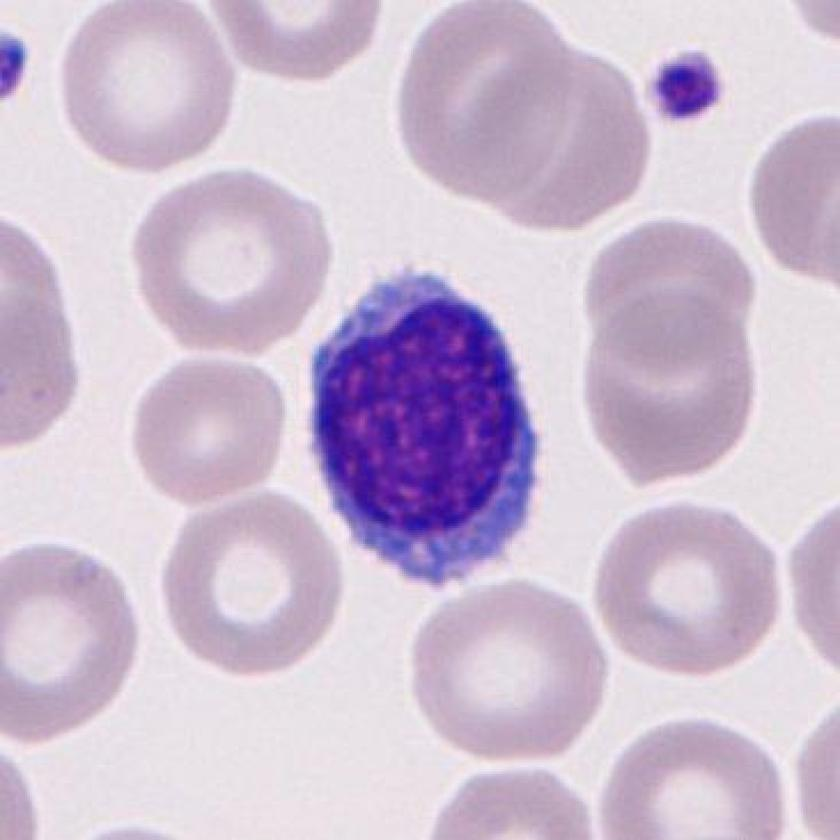lymphocyte: (279, 254, 561, 611)
